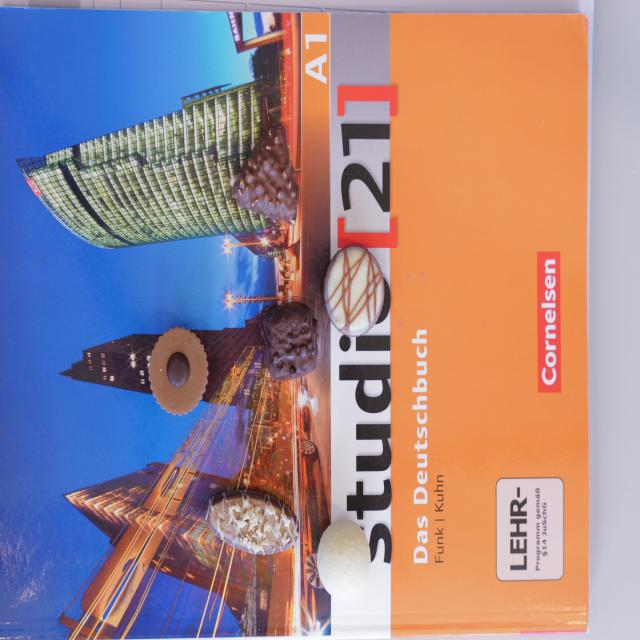Amandina: (203, 488, 301, 556)
Comtesse: (316, 520, 372, 598)
Creme_brulee: (324, 247, 384, 336)
Noblesse: (148, 326, 208, 418)
Tentation_noir: (261, 301, 319, 381)
